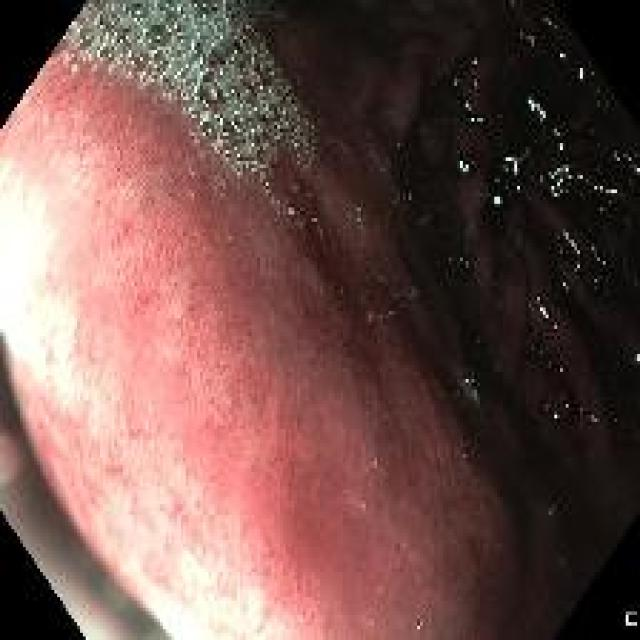blood: (371, 46, 634, 361)
bubbles: (56, 5, 315, 184), (457, 364, 483, 400), (402, 280, 421, 305), (609, 413, 628, 435), (534, 340, 553, 361), (546, 499, 558, 523), (211, 176, 225, 194), (413, 616, 427, 633), (557, 553, 568, 574), (556, 572, 566, 595), (460, 448, 472, 465)
contrast: (357, 16, 635, 604)
saturation: (12, 408, 308, 638), (3, 161, 91, 408)
specularity: (69, 0, 312, 173), (535, 160, 625, 205), (558, 224, 584, 271), (462, 95, 486, 134), (571, 59, 593, 94), (524, 91, 547, 122), (504, 150, 527, 180), (455, 149, 474, 180), (515, 26, 537, 52), (535, 293, 553, 324), (447, 69, 467, 93), (467, 74, 484, 96), (557, 273, 572, 296), (558, 43, 569, 71), (542, 16, 560, 33), (470, 48, 482, 70), (555, 140, 565, 153), (552, 125, 561, 138), (288, 206, 297, 217), (495, 194, 502, 205), (589, 413, 596, 423), (516, 184, 523, 193), (552, 411, 558, 421), (557, 365, 563, 375), (551, 322, 558, 329), (406, 193, 412, 201), (464, 378, 468, 387), (495, 178, 499, 185)
